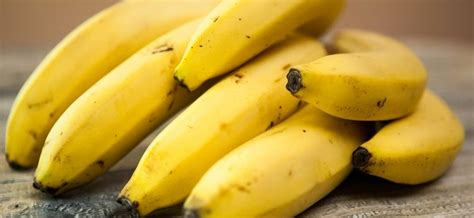banana: (113, 27, 332, 217), (3, 1, 210, 175), (28, 16, 214, 204), (169, 1, 344, 99), (283, 21, 431, 124), (346, 86, 466, 191)
